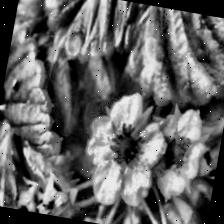Blossom Blight: (102, 118, 147, 169), (158, 131, 196, 178)
